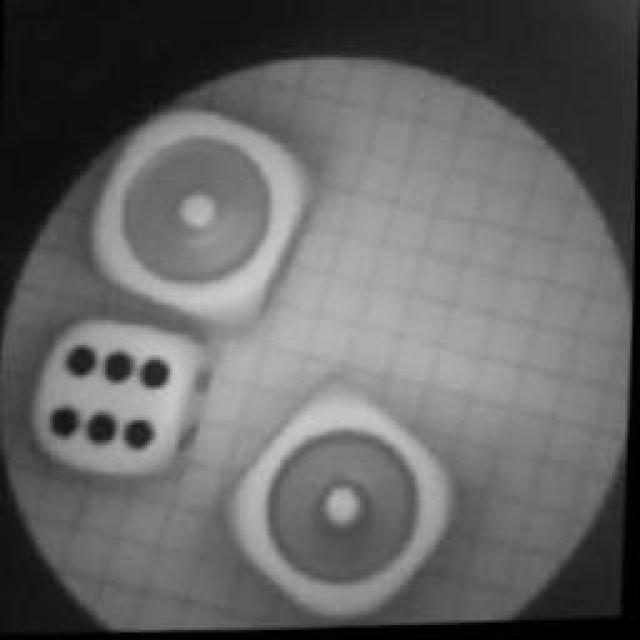dice_1: (215, 368, 473, 630), (79, 91, 324, 339)
dice_6: (25, 309, 213, 491)
